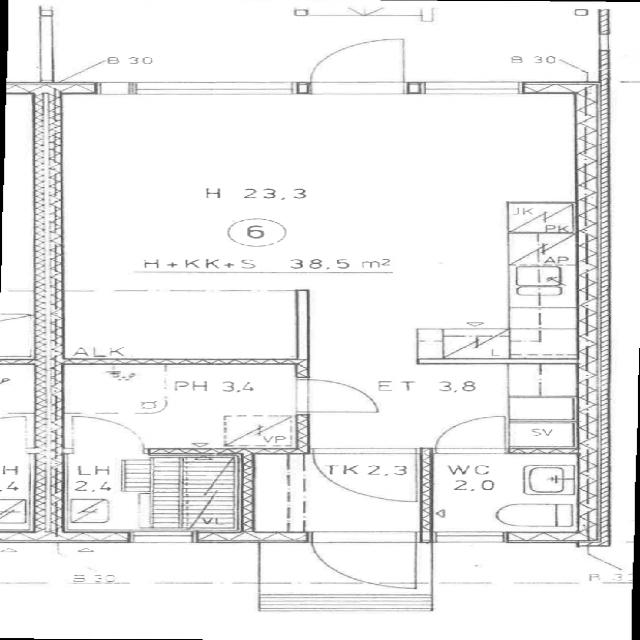door: (311, 532, 416, 592), (313, 448, 417, 503), (310, 38, 403, 94), (71, 413, 144, 457), (435, 414, 506, 454), (295, 379, 375, 411)
